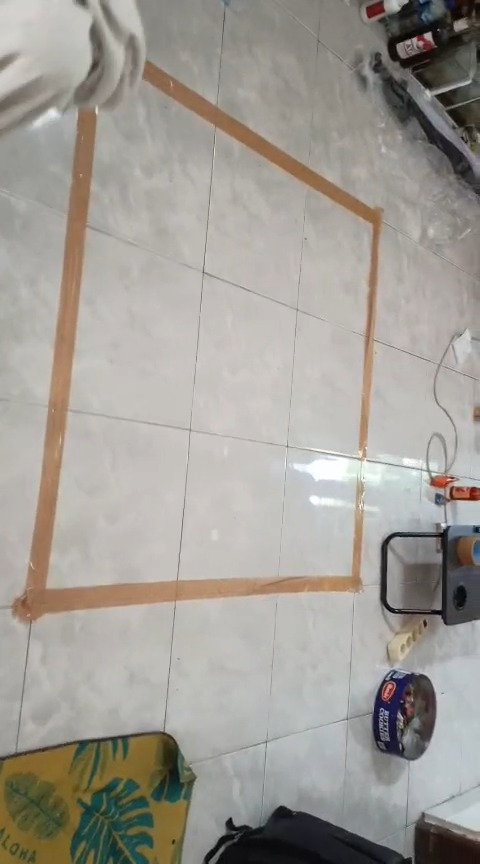floor marking: (13, 113, 362, 621), (144, 62, 381, 460)
